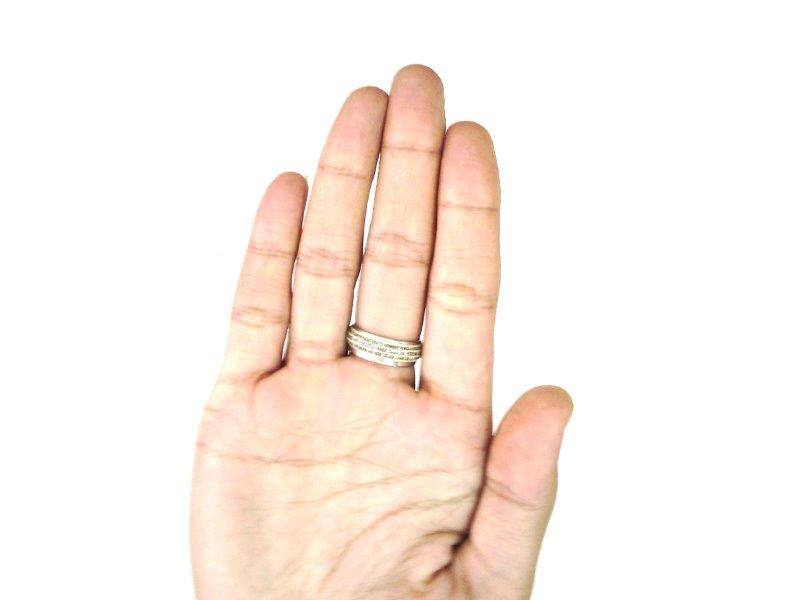hand: (190, 64, 574, 600)
